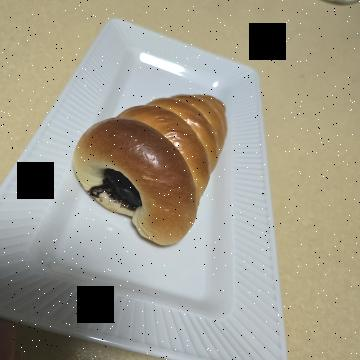cream horn: (78, 104, 259, 295)
